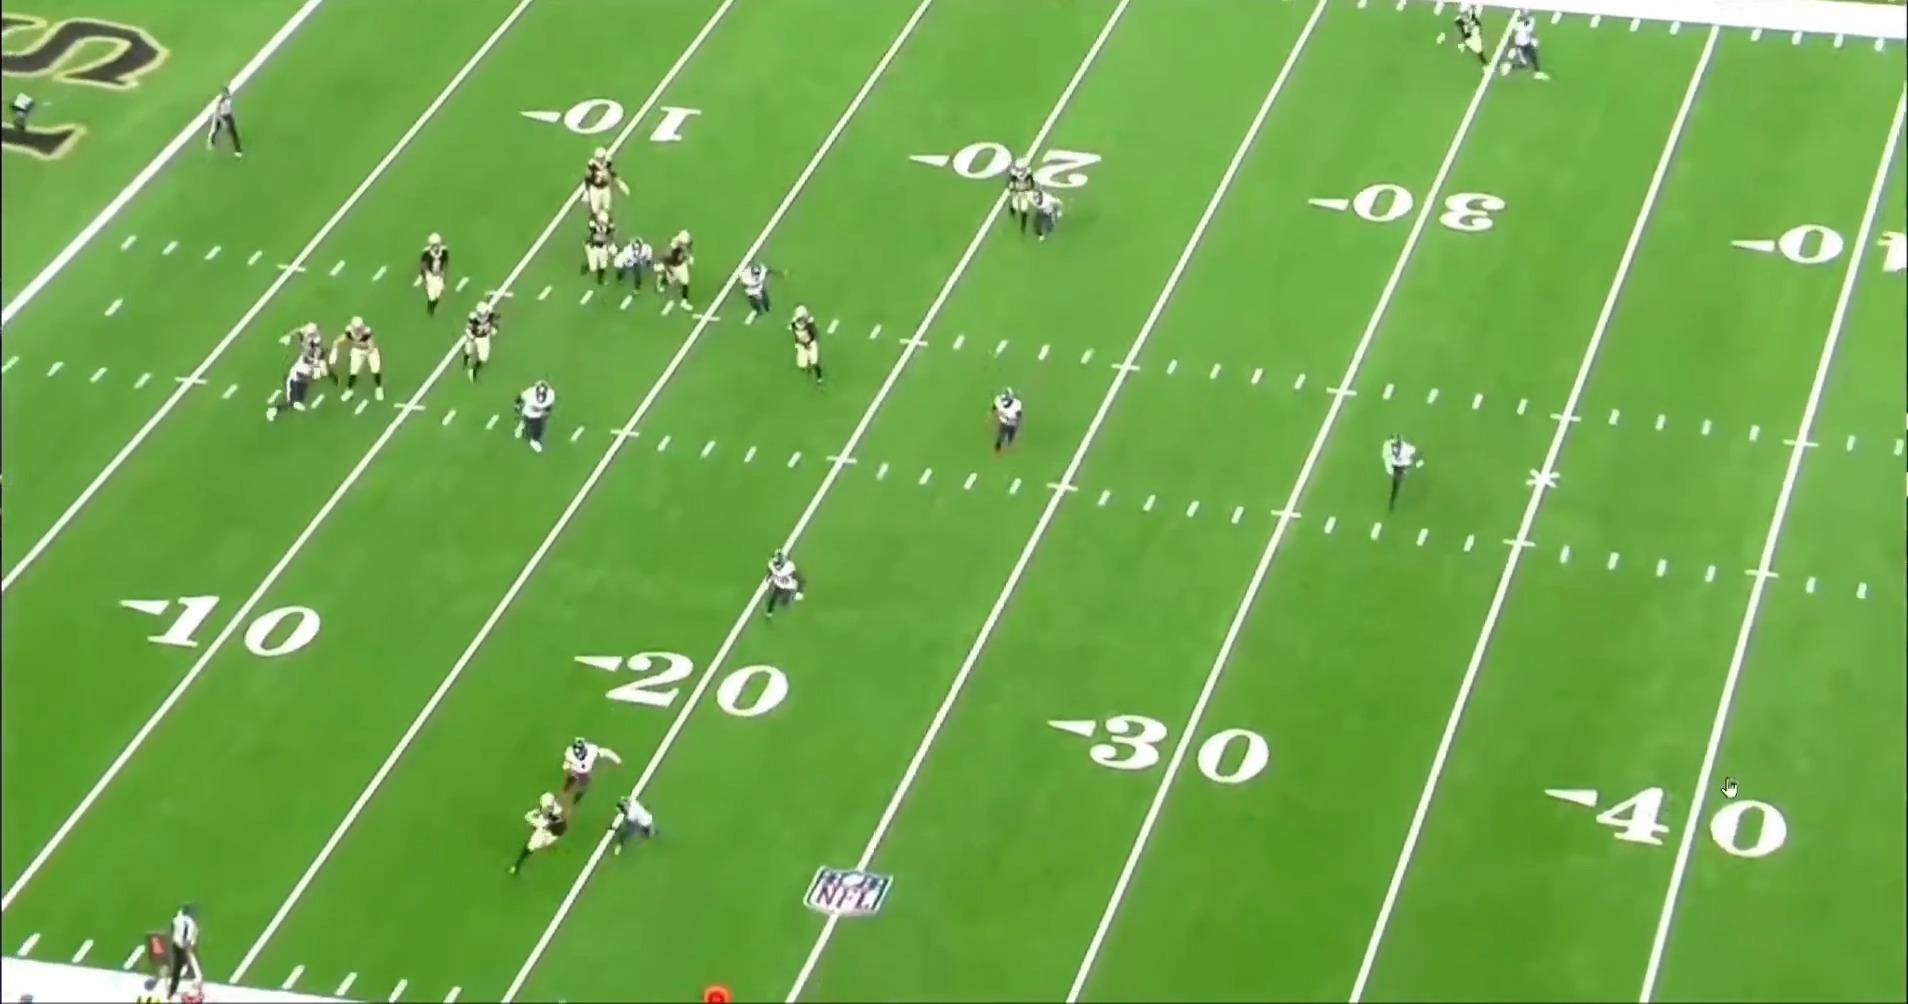player: (502, 786, 570, 876), (283, 320, 341, 415), (269, 346, 335, 427), (332, 316, 388, 408), (548, 737, 620, 806), (580, 149, 631, 239), (649, 229, 701, 315), (451, 295, 500, 385), (1499, 12, 1556, 89), (610, 795, 669, 864), (507, 376, 557, 457), (1386, 433, 1432, 517), (611, 236, 671, 299), (1437, 3, 1495, 68), (782, 303, 826, 388), (754, 550, 806, 620), (732, 258, 782, 329), (417, 231, 456, 322), (1002, 153, 1040, 245), (581, 213, 627, 287), (982, 388, 1022, 463), (1033, 184, 1074, 253)
ref: (158, 902, 207, 997), (197, 81, 239, 159)
